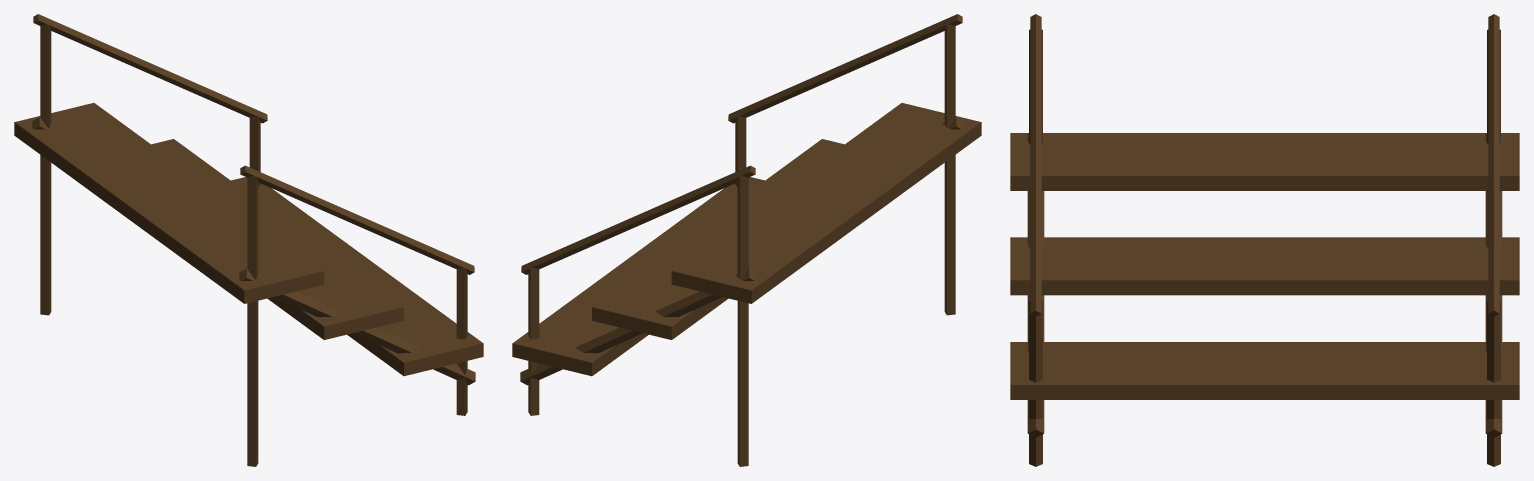
File: landing-far.glb
3 views of the same model, side by side, from view 1: azimuth 30°, elevation 25°; view 2: azimuth 150°, elevation 25°; view 3: azimuth 270°, elevation 25° (orthographic). The views are drawn at different scales.
Parts seen in each view (by area): view 1: landing-far; view 2: landing-far; view 3: landing-far.
Part boxes in pixels (x1=…): landing-far: x1=14, y1=14, x2=483, y2=466; landing-far: x1=512, y1=14, x2=981, y2=466; landing-far: x1=1010, y1=14, x2=1519, y2=466.
Size of the model in its own units: 2.44 by 2.89 by 4.
